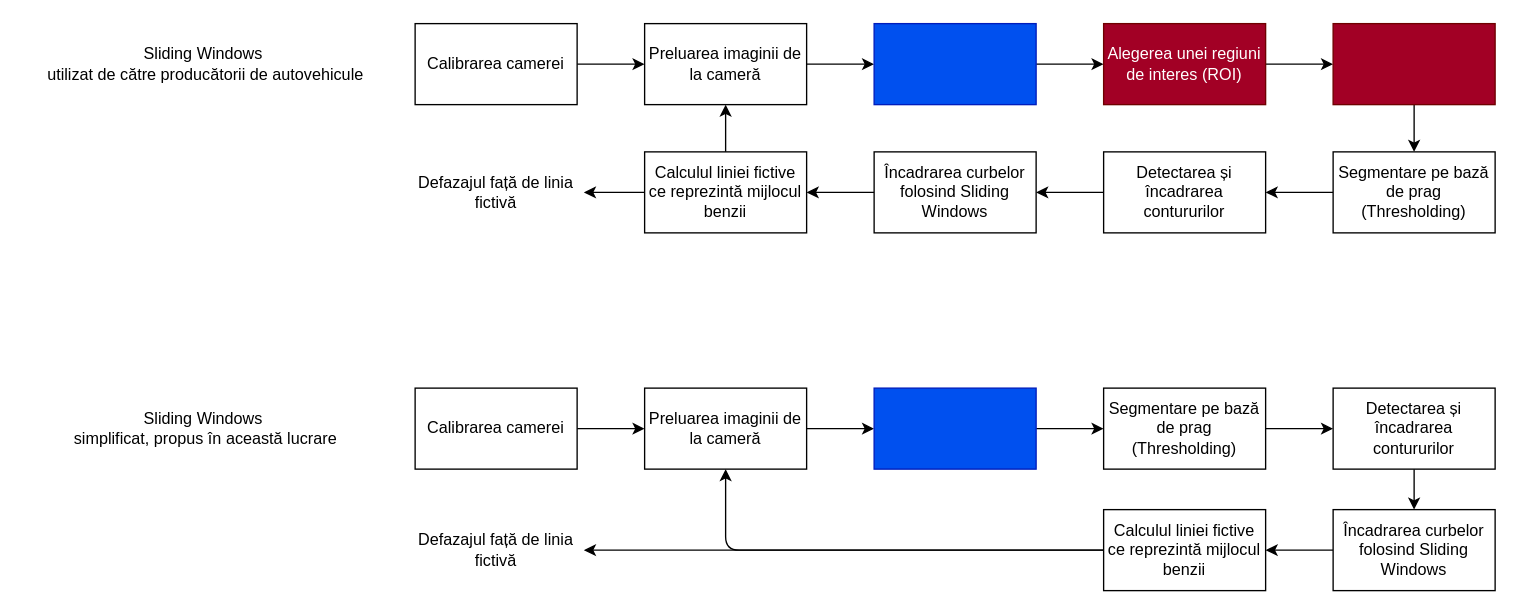
This 1519x614 diagram has some shape labels left out. The shapes that lost their labels are listed below. From the top down, each one's centre as x and y in pixels, then its label:
At pixel 954 63: "Aplicare filtre de corecție".
At pixel 1413 63: "Distorsionarea imaginii (Bird Eye View)".
At pixel 954 428: "Aplicare filtre de desaturare și blurare".
